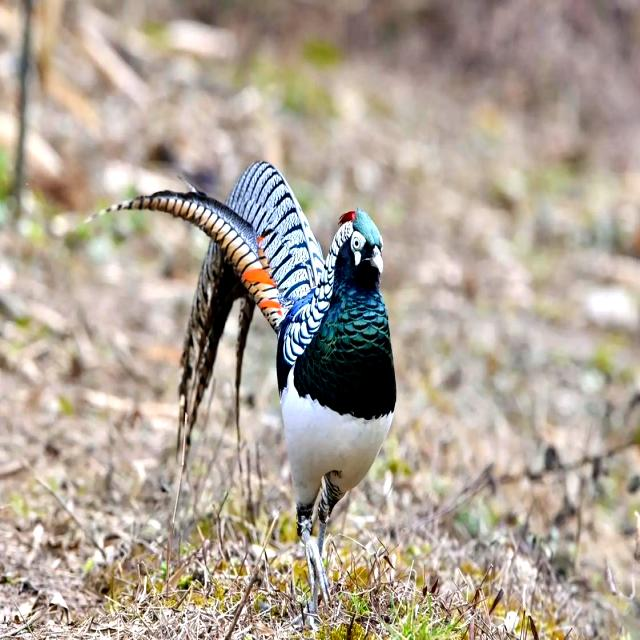Chrysolophus amherstiae: (100, 162, 353, 454)
